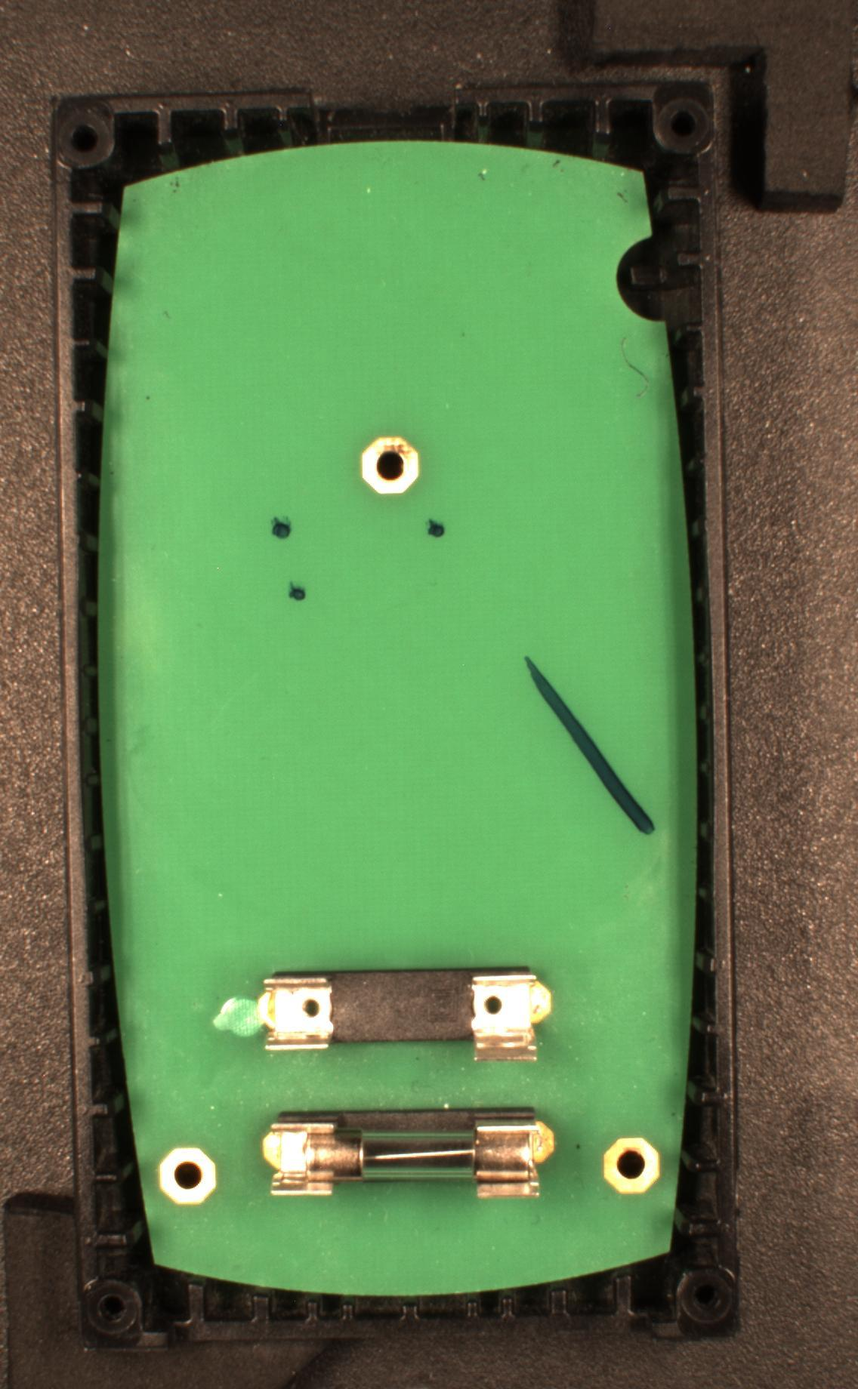Linijsko Ostecene: (521, 652, 659, 840)
Nepostojanje osiguraca: (255, 964, 553, 1065)
Tockasto Ostecenje: (267, 514, 297, 543), (285, 576, 308, 604), (423, 516, 448, 540)
